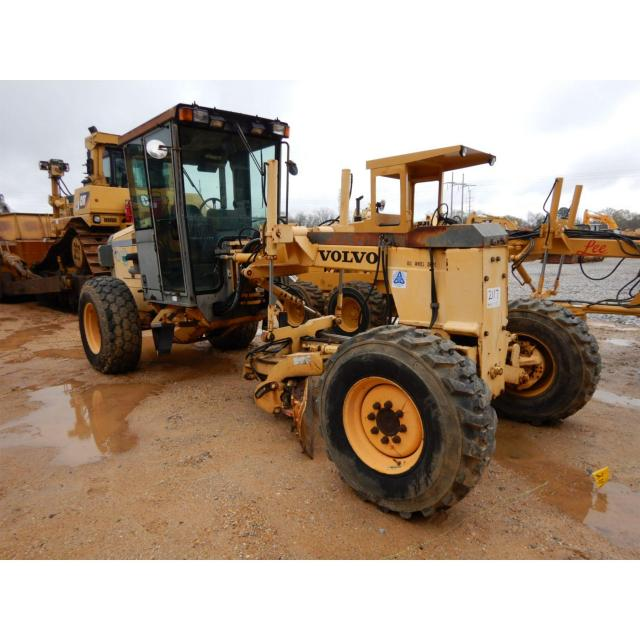Grader: (75, 101, 592, 521)
